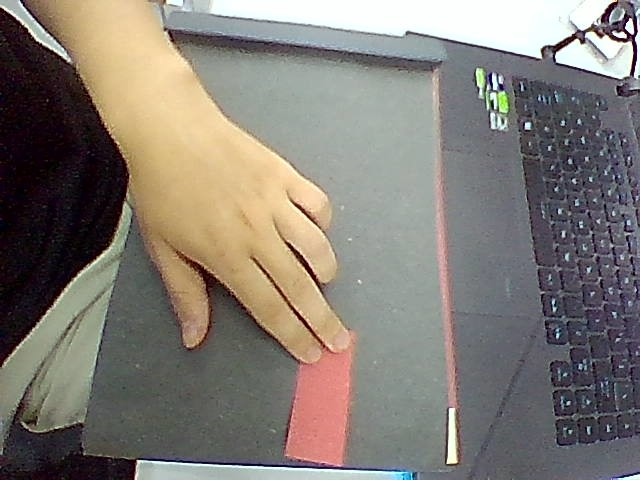card: (285, 346, 355, 465)
